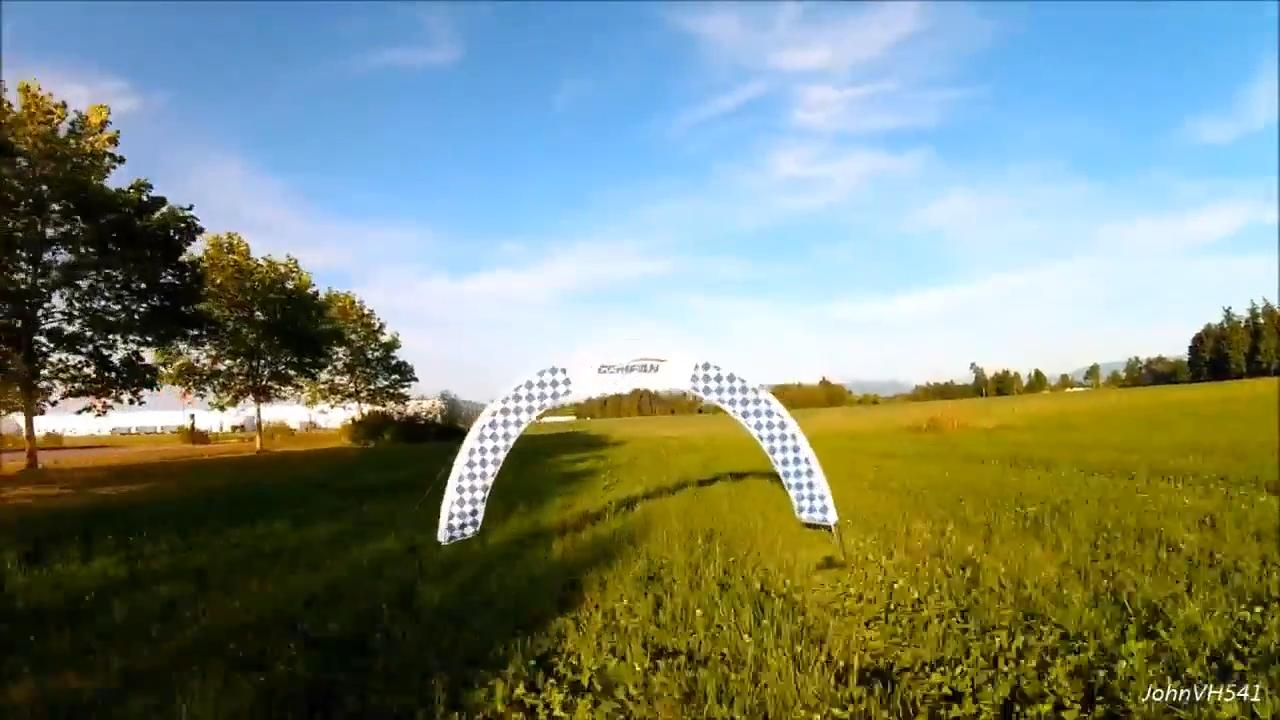gate: (437, 354, 835, 546)
